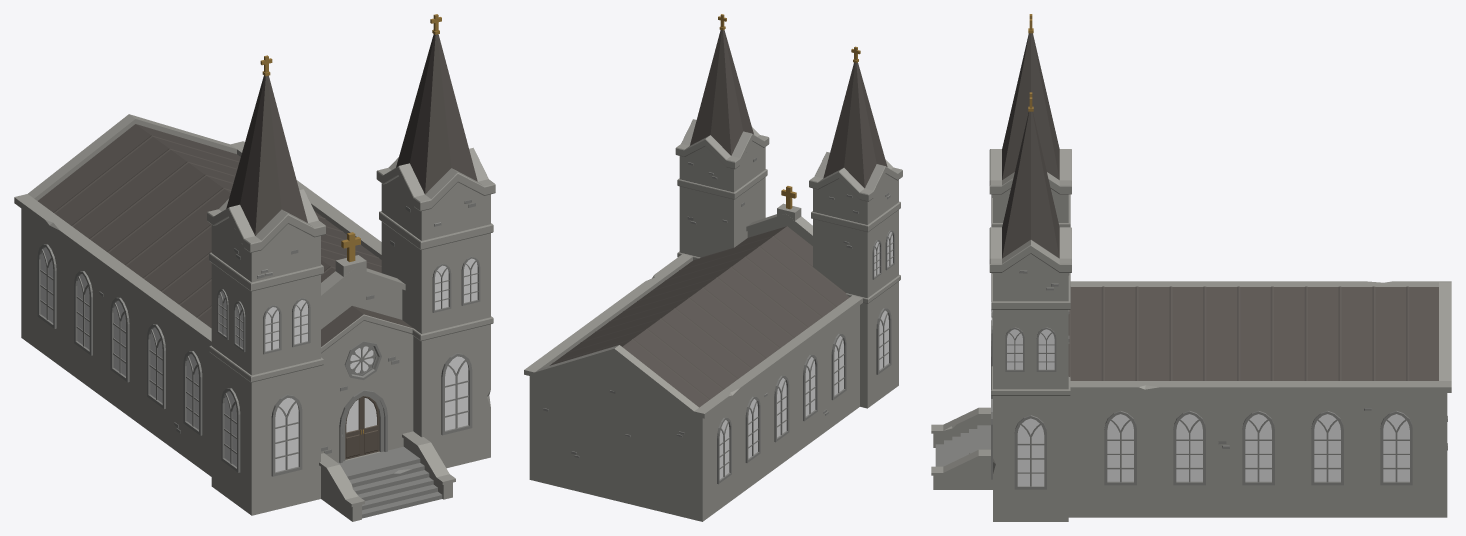
File: SM_Bldg_City_Church.fbx
3 views of the same model, side by side, from view 1: azimuth 30°, elevation 25°; view 2: azimuth 150°, elevation 25°; view 3: azimuth 270°, elevation 25° (orthographic). The views are drawn at different scales.
Parts seen in each view (by area): view 1: SM_Bldg_City_Church; view 2: SM_Bldg_City_Church; view 3: SM_Bldg_City_Church.
Part boxes in pixels (bbox=[...]): SM_Bldg_City_Church: bbox=[14, 14, 495, 521]; SM_Bldg_City_Church: bbox=[524, 14, 902, 521]; SM_Bldg_City_Church: bbox=[931, 14, 1451, 521].
Size of the model in its own units: 1283 by 2180 by 2490.
